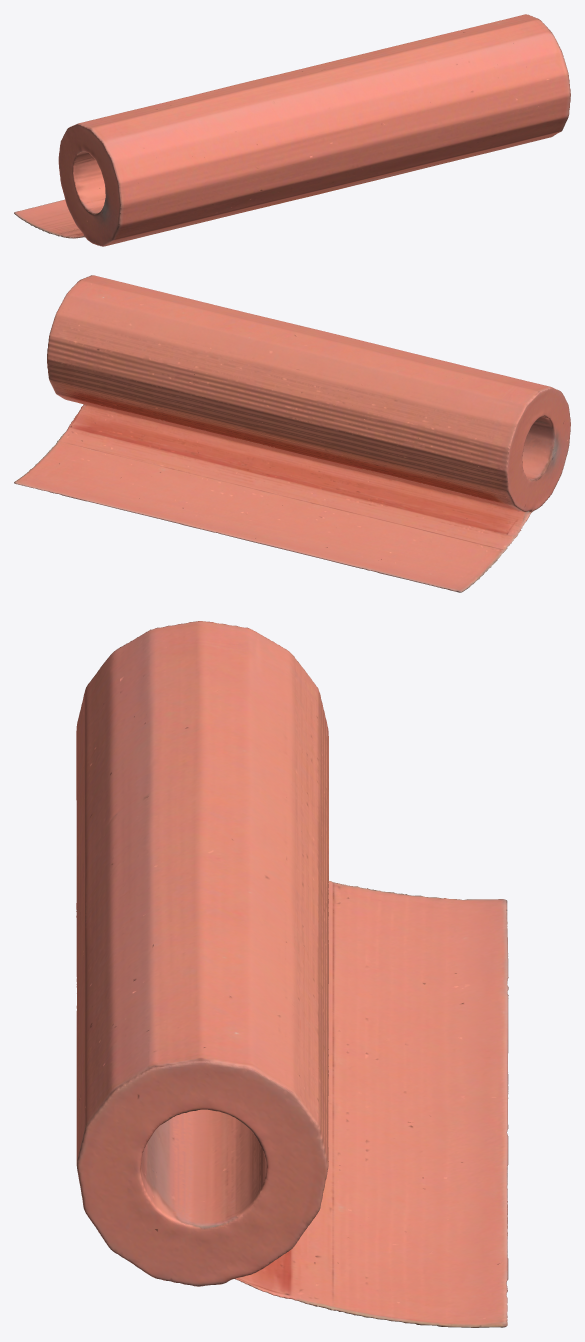
Rendered from wrap.glb.
3 renders of one model, top to bottom at view 1: azimuth 30°, elevation 25°; view 2: azimuth 150°, elevation 25°; view 3: azimuth 270°, elevation 25°, orthographic. The views are drawn at different scales.
Bounding box in the file's own units: 2 × 0.5991 × 0.8319.
Materials: 1 (1 with a texture image).
